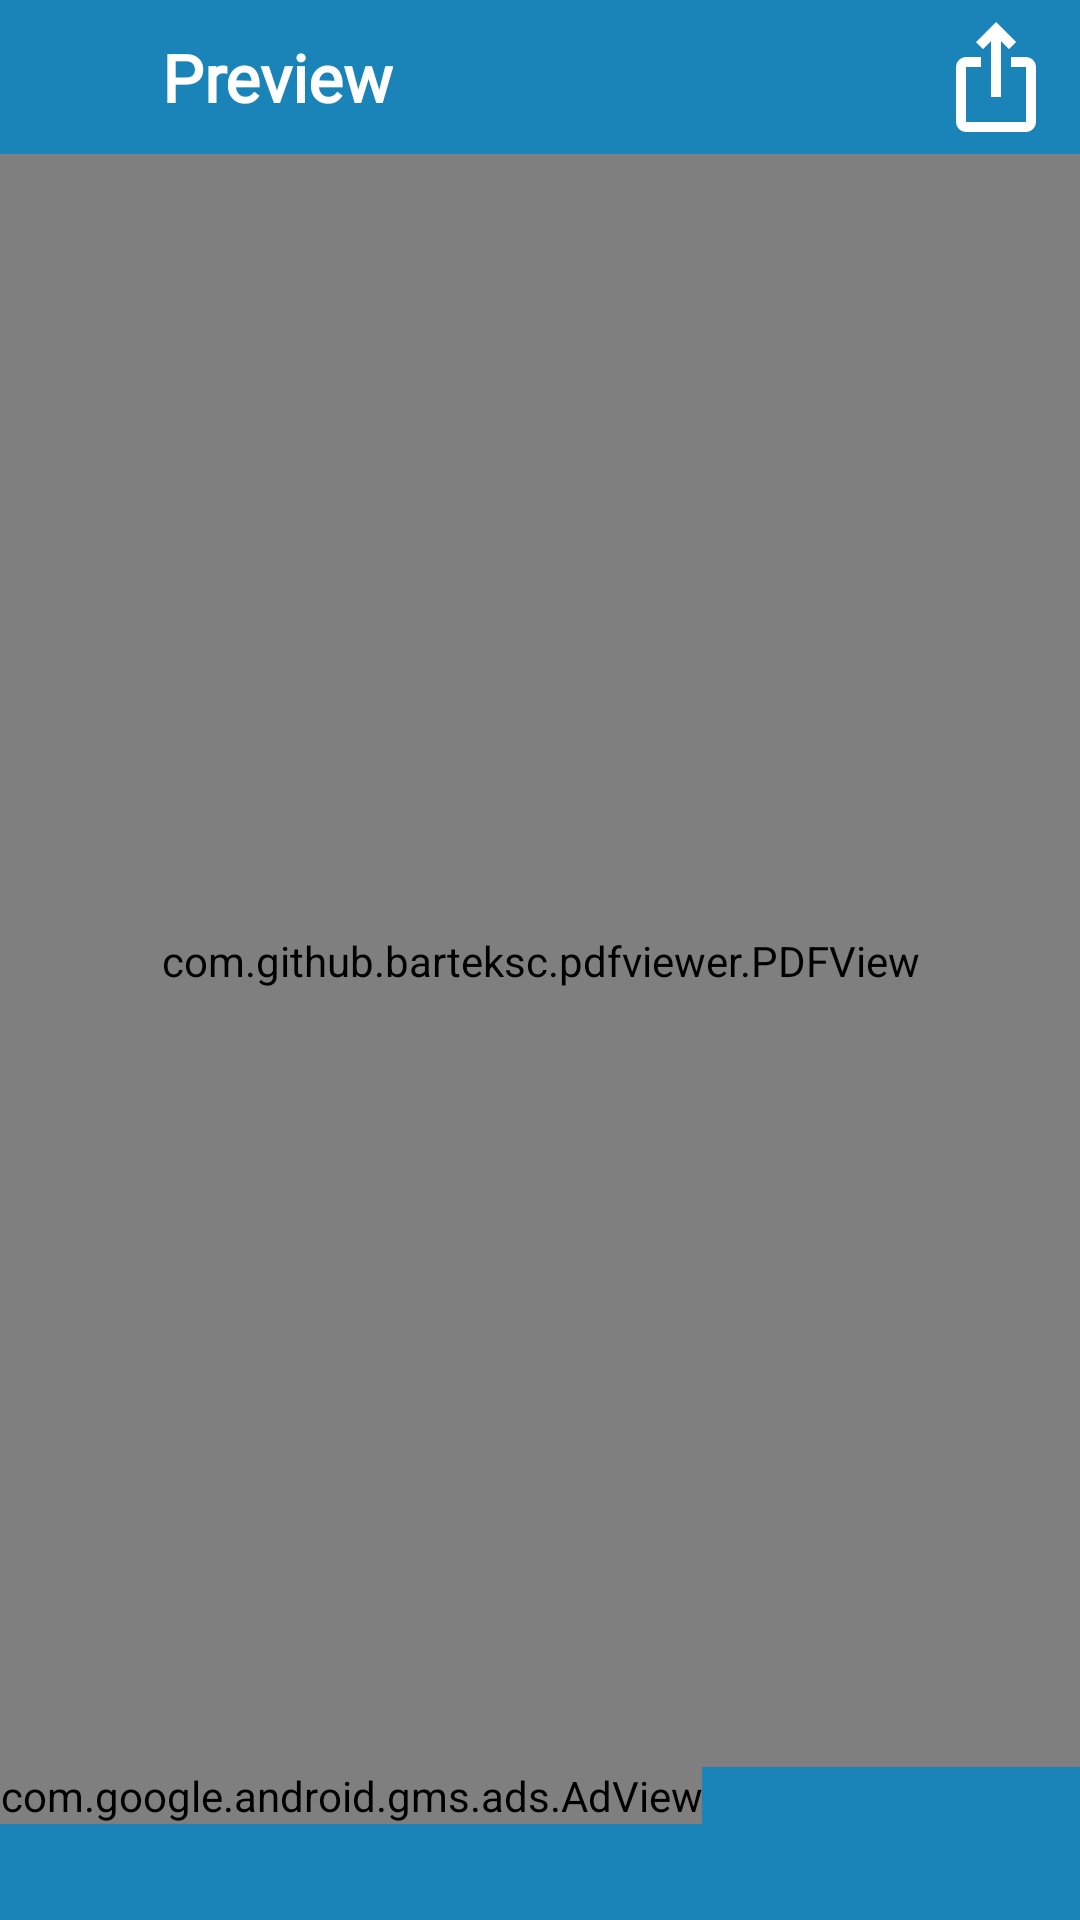

Screen size 1080*1920. Icon name, then its center in pixels as point (x, y):
share: point (996, 77)
